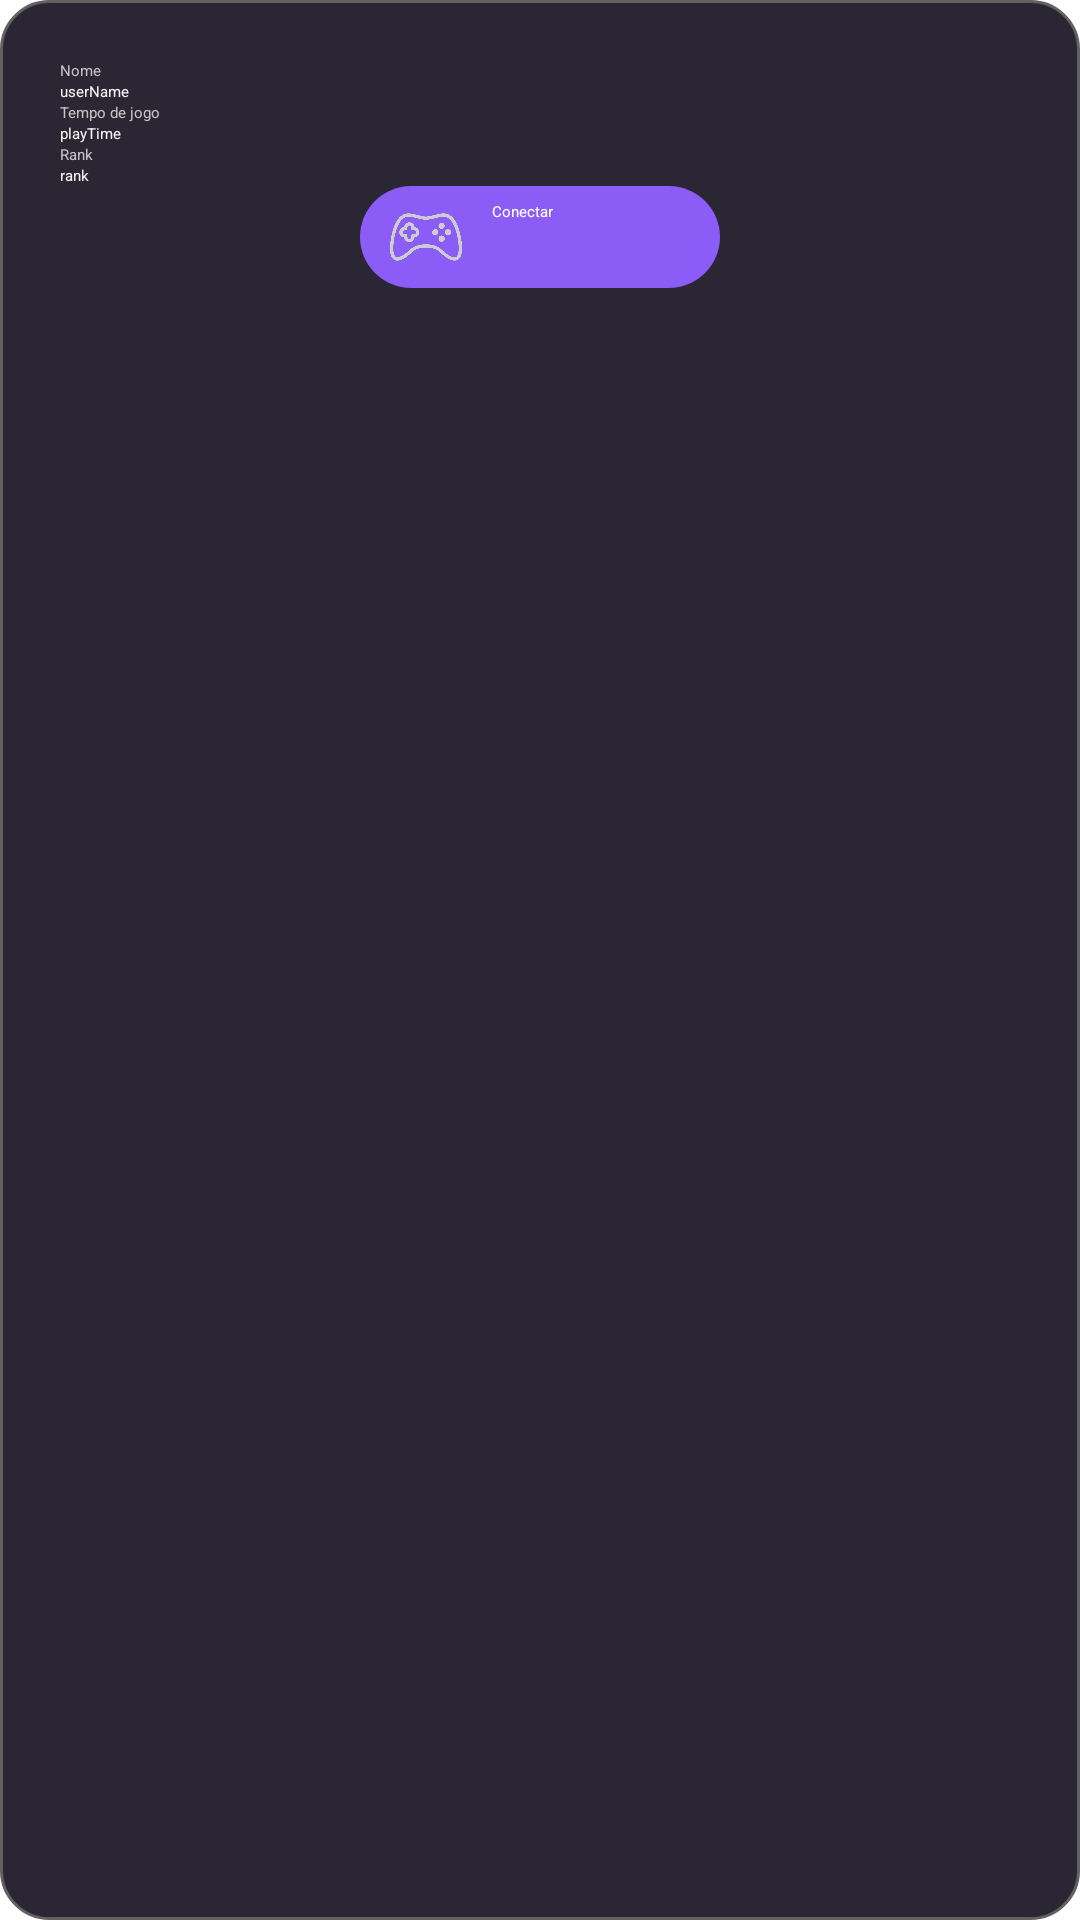

Icon bounding boxes for this 1080px×1920px phone screenshot, format (x1, y1, x2, y2):
joyicon: (390, 213, 462, 261)
